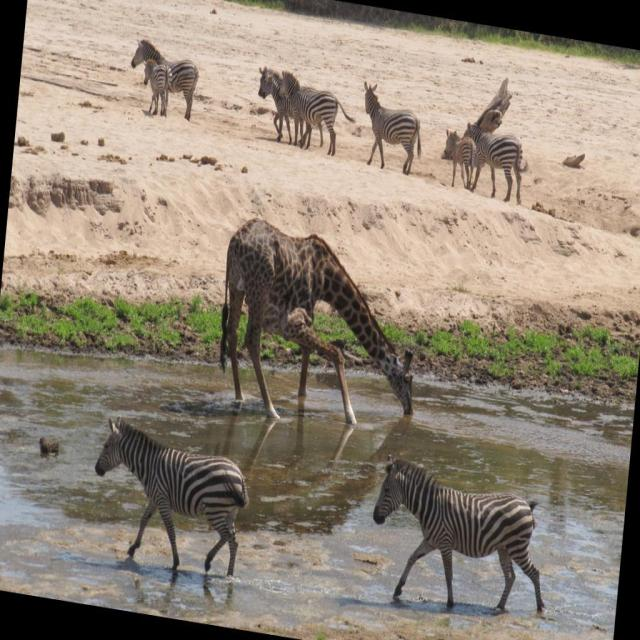Giraffe: (198, 207, 422, 431)
